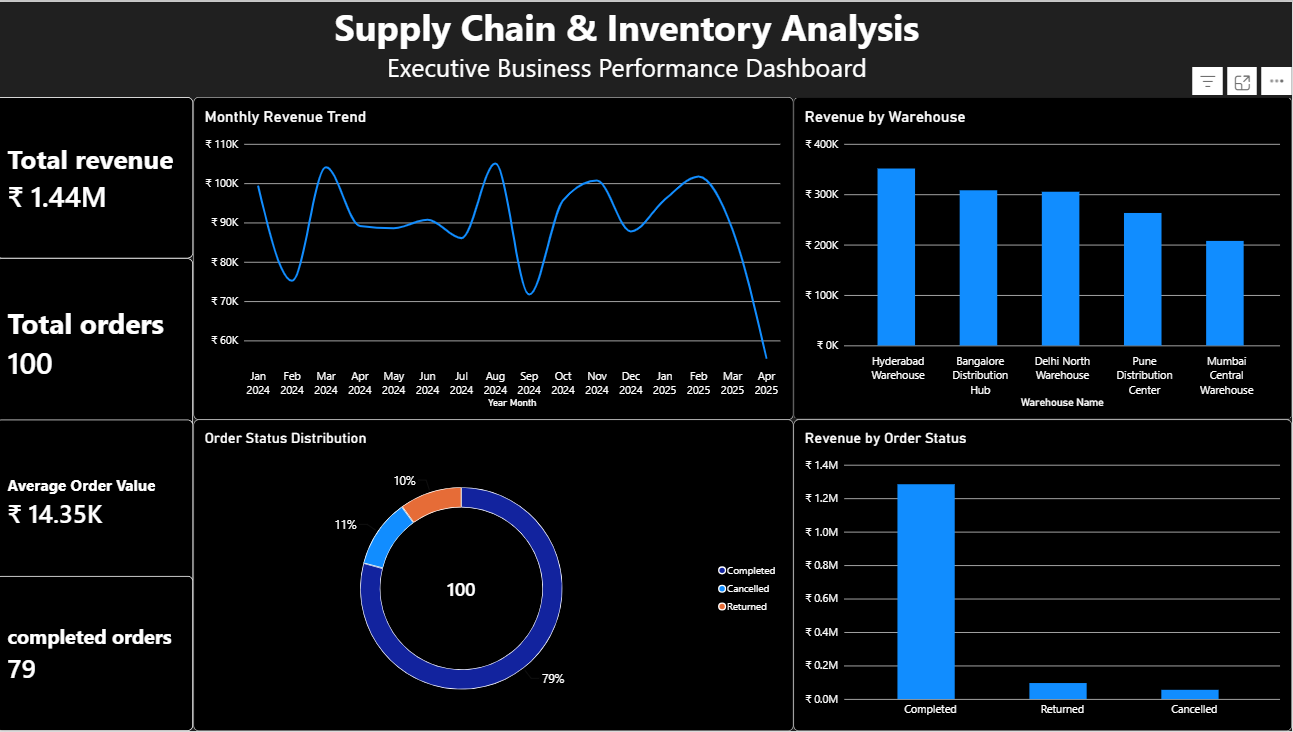

This screenshot's page, from the dashboard's own definition file:
{"tool":"powerbi","page":{"name":"Executive_dashboard","canvas":[1920,1080],"ordinal":0},"visuals":[{"type":"cardVisual","fields":{"Data":["public customers.Total_revenue"]},"box":[0,139.9,292.6,239.3],"z":0},{"type":"cardVisual","fields":{"Data":["public customers.Total orders"]},"box":[0,379.1,292.6,250.3],"z":1000},{"type":"cardVisual","fields":{"Data":["public customers.Average_order_value","public customers.Average_order_value"]},"box":[0,618.4,292.6,244.8],"z":2000},{"type":"cardVisual","fields":{"Data":["public customers.completed orders"]},"box":[0,850.3,292.6,230.1],"z":3000},{"type":"lineChart","title":"Monthly Revenue Trend","fields":{"Y":["public customers.Total_revenue"],"Category":["DateTable.Year Month"]},"box":[292.6,139.9,889,478.5],"z":4000},{"type":"clusteredColumnChart","title":"Revenue by Warehouse","fields":{"Category":["public warehouses.warehouse_name"],"Y":["public customers.Total_revenue"]},"box":[1181.6,139.9,738,478.5],"z":5000},{"type":"donutChart","title":"Order Status Distribution","fields":{"Category":["public orders.order_status"],"Y":["public customers.Total orders"]},"box":[292.6,618.4,889,462],"z":6000},{"type":"clusteredColumnChart","title":"Revenue by Order Status","fields":{"Category":["public orders.order_status"],"Y":["public customers.Total_revenue"]},"box":[1181.6,618.4,738,462],"z":7000},{"type":"textbox","box":[88.3,0,1691.4,139.9],"z":8000}]}

Visuals, with their boxes in screenshot pixels (x1, y1, x2, y2), scaled from the page's 1920x1080 canvas onto the 1293x732 screenshot:
cardVisual - public customers.Total_revenue: 0,95,197,257
cardVisual - public customers.Total orders: 0,257,197,427
cardVisual - public customers.Average_order_value x public customers.Average_order_value: 0,419,197,585
cardVisual - public customers.completed orders: 0,576,197,731
"Monthly Revenue Trend" lineChart: 197,95,796,419
"Revenue by Warehouse" clusteredColumnChart: 796,95,1292,419
"Order Status Distribution" donutChart: 197,419,796,731
"Revenue by Order Status" clusteredColumnChart: 796,419,1292,731
textbox: 59,0,1199,95
